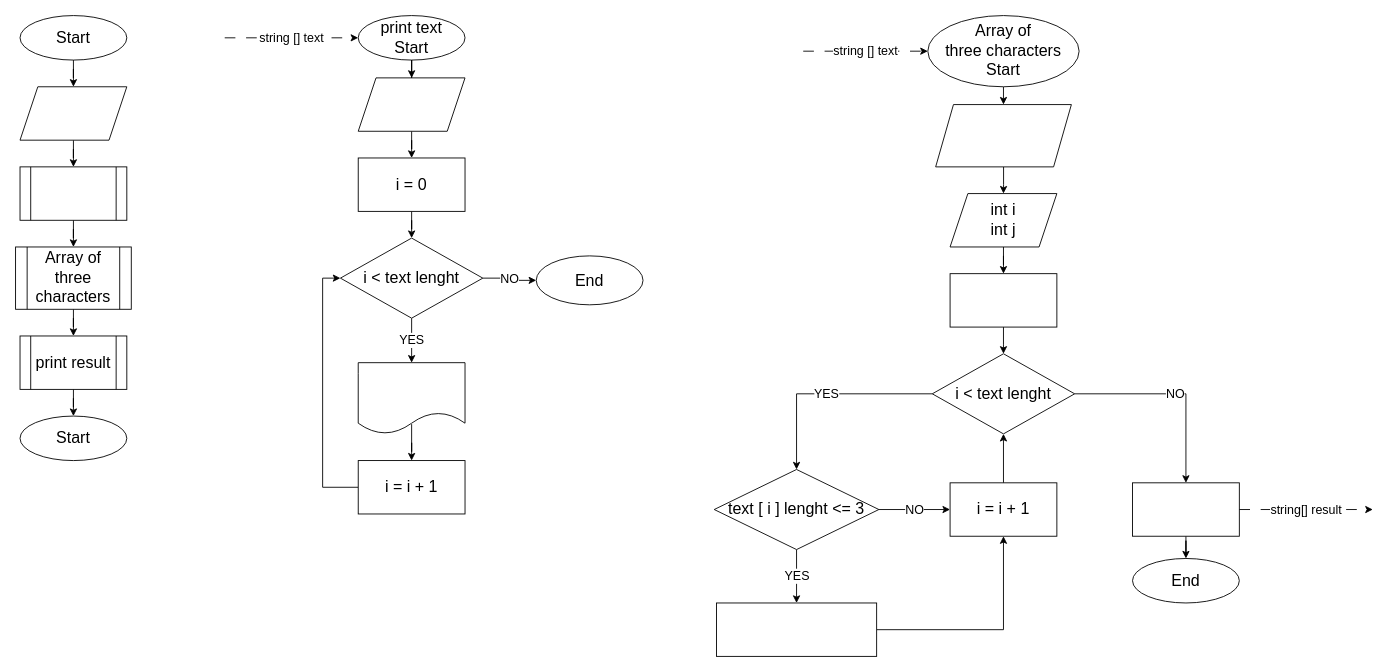
Some shapes in this 1396 by 672 pixel diagram are drawn without their labels. Here are the shapes that lost their labels. From the top down, the box of each, then its label:
(19, 86, 127, 140): string[] text
(357, 77, 465, 131): int i
(935, 104, 1071, 167): string[] result (result length = text length)
(19, 166, 127, 220): print text
(949, 273, 1057, 327): i = 0 j = 0
(357, 362, 465, 434): text [ i ]
(1132, 482, 1239, 536): return result
(716, 602, 877, 656): result [ i ] = text [ i ] j = j +1
